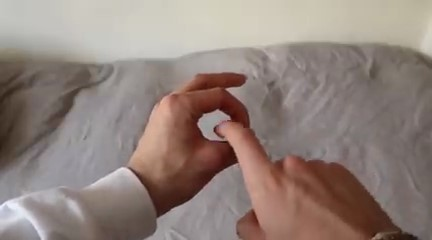Q: (127, 63, 412, 240)
